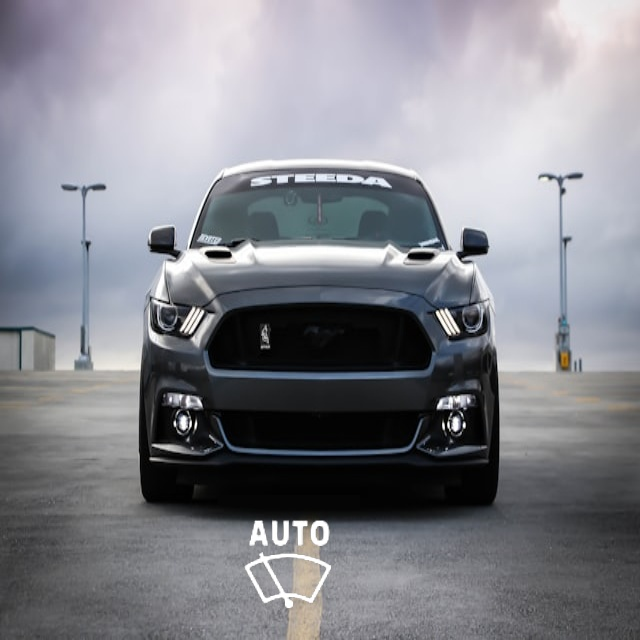symbol: (218, 495, 360, 637), (290, 59, 430, 199)
